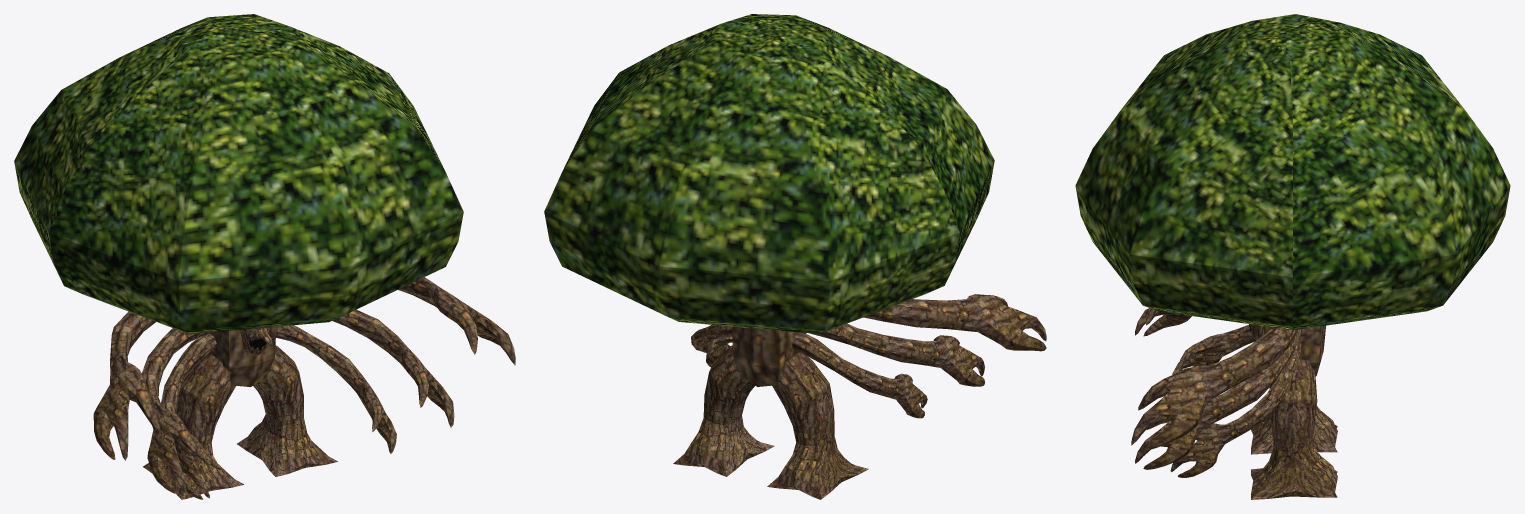
Rendered from treant.obj.
The picture shows the model from 3 angles, left to right: view 1: azimuth 30°, elevation 25°; view 2: azimuth 150°, elevation 25°; view 3: azimuth 270°, elevation 25°; orthographic projection.
Visible parts, largest first — view 1: Body, LegLeft, ArmRightTop, LegRight, ArmRightMiddle, ArmLeftMiddle, ArmLeftBottom, ArmRightBottom, ArmLeftTop, Head; view 2: Body, LegRight, LegLeft, ArmRightTop, ArmRightMiddle, ArmRightBottom, ArmLeftBottom; view 3: Body, LegLeft, ArmLeftTop, ArmLeftMiddle, ArmLeftBottom, ArmRightBottom, LegRight, ArmRightMiddle.
Boxes of the visible parts, bbox=[...] form: Body: bbox=[14, 14, 463, 386]; LegLeft: bbox=[237, 345, 337, 476]; ArmRightTop: bbox=[93, 311, 159, 460]; LegRight: bbox=[143, 353, 243, 499]; ArmRightMiddle: bbox=[142, 328, 208, 493]; ArmLeftMiddle: bbox=[332, 309, 454, 427]; ArmLeftBottom: bbox=[276, 325, 396, 453]; ArmRightBottom: bbox=[161, 333, 220, 499]; ArmLeftTop: bbox=[398, 277, 515, 365]; Head: bbox=[240, 327, 274, 355]; Body: bbox=[544, 14, 994, 386]; LegRight: bbox=[767, 352, 868, 499]; LegLeft: bbox=[673, 345, 774, 476]; ArmRightTop: bbox=[863, 294, 1046, 351]; ArmRightMiddle: bbox=[810, 323, 984, 386]; ArmRightBottom: bbox=[792, 332, 927, 418]; ArmLeftBottom: bbox=[691, 325, 732, 366]; Body: bbox=[1075, 14, 1510, 376]; LegLeft: bbox=[1251, 359, 1337, 499]; ArmLeftTop: bbox=[1131, 327, 1298, 450]; ArmLeftMiddle: bbox=[1135, 329, 1302, 469]; ArmLeftBottom: bbox=[1170, 340, 1301, 477]; ArmRightBottom: bbox=[1172, 325, 1256, 374]; LegRight: bbox=[1251, 406, 1337, 454]; ArmRightMiddle: bbox=[1135, 308, 1191, 336].
Size of the model in its own units: 17.64 by 17.79 by 16.33.
